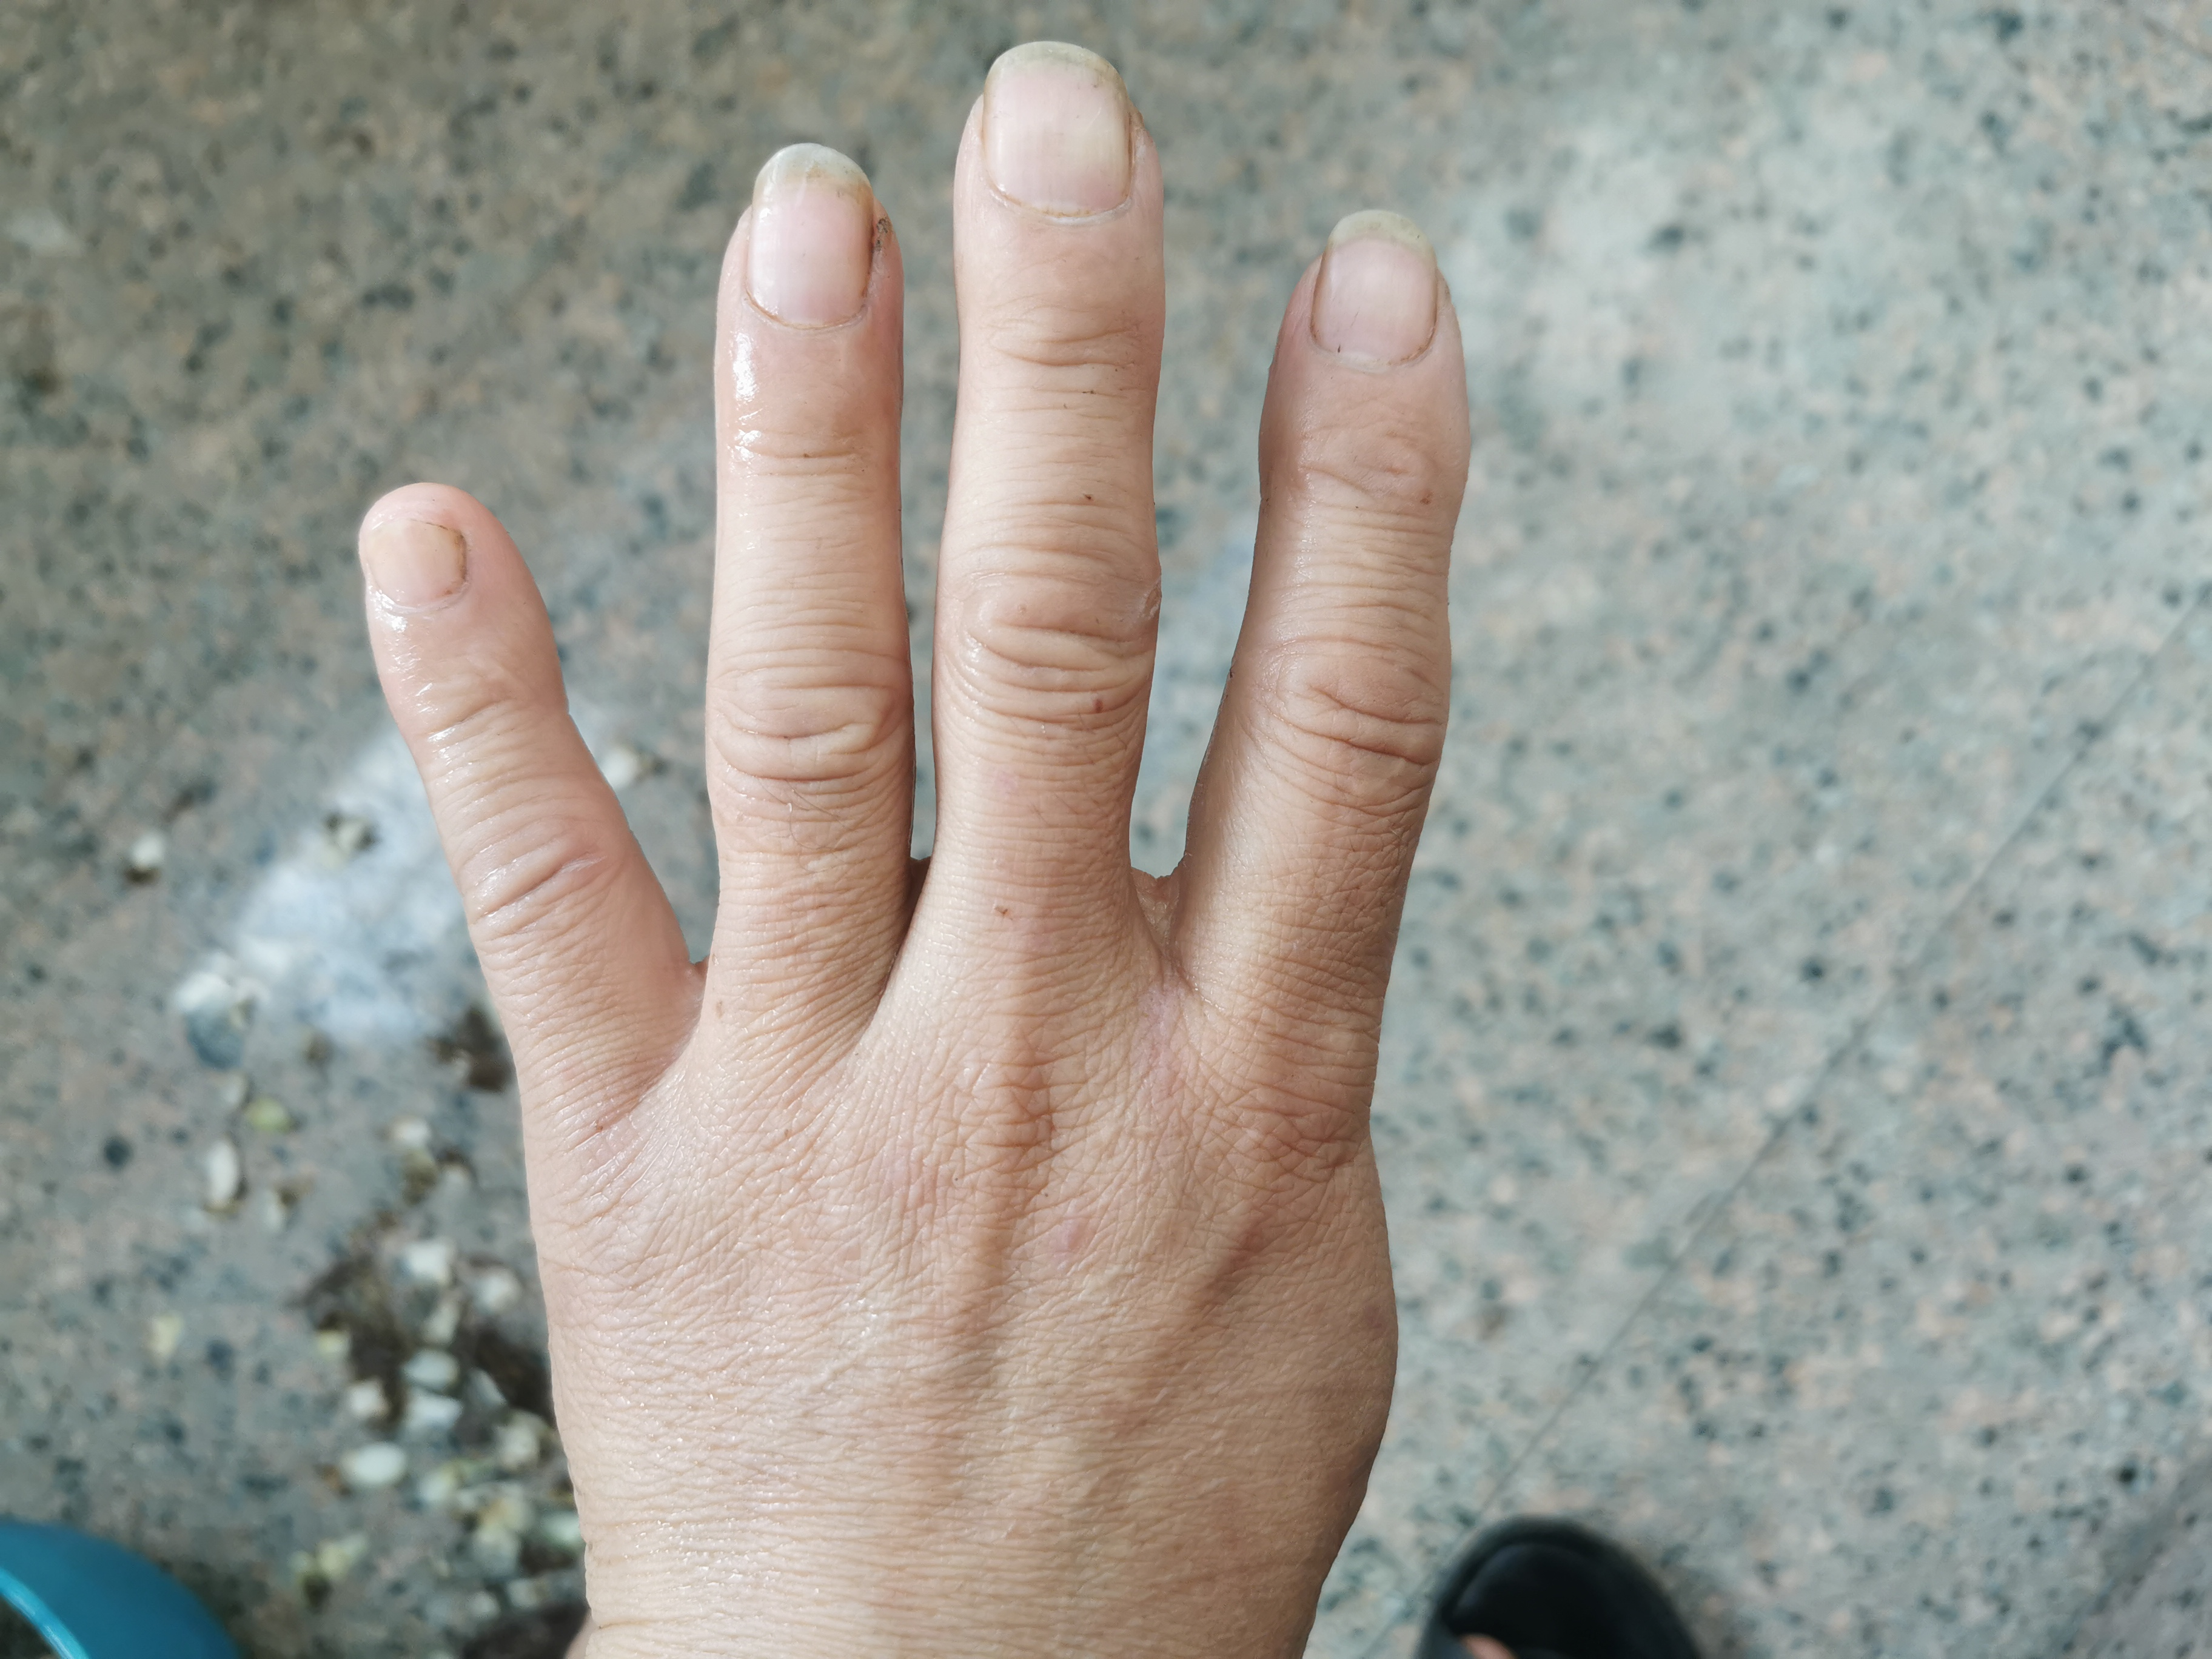right: (340, 24, 1515, 1622)
